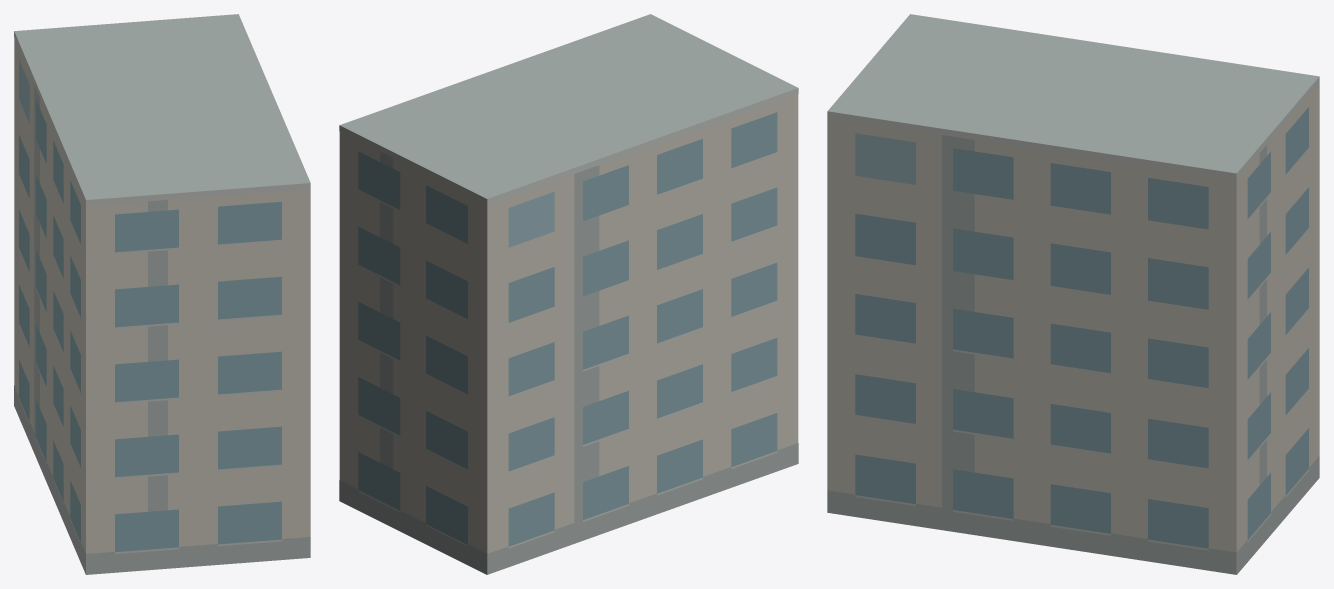
File: residential-118eb31b-4320-47d3-8ddc-b195c5cdc0bf.glb
The picture shows the model from 3 angles, left to right: view 1: azimuth 30°, elevation 25°; view 2: azimuth 150°, elevation 25°; view 3: azimuth 270°, elevation 25°; orthographic projection. The views are drawn at different scales.
Visible parts, largest first — view 1: residential-118eb31b-4320-47d3-8ddc-b195c5cdc0bf.tmp; view 2: residential-118eb31b-4320-47d3-8ddc-b195c5cdc0bf.tmp; view 3: residential-118eb31b-4320-47d3-8ddc-b195c5cdc0bf.tmp.
Boxes of the visible parts, box(x1,y1,x2,y2) form: residential-118eb31b-4320-47d3-8ddc-b195c5cdc0bf.tmp: box(14, 14, 310, 574); residential-118eb31b-4320-47d3-8ddc-b195c5cdc0bf.tmp: box(339, 14, 798, 574); residential-118eb31b-4320-47d3-8ddc-b195c5cdc0bf.tmp: box(827, 14, 1319, 574).
Size of the model in its own units: 13 by 15.25 by 16.95.
